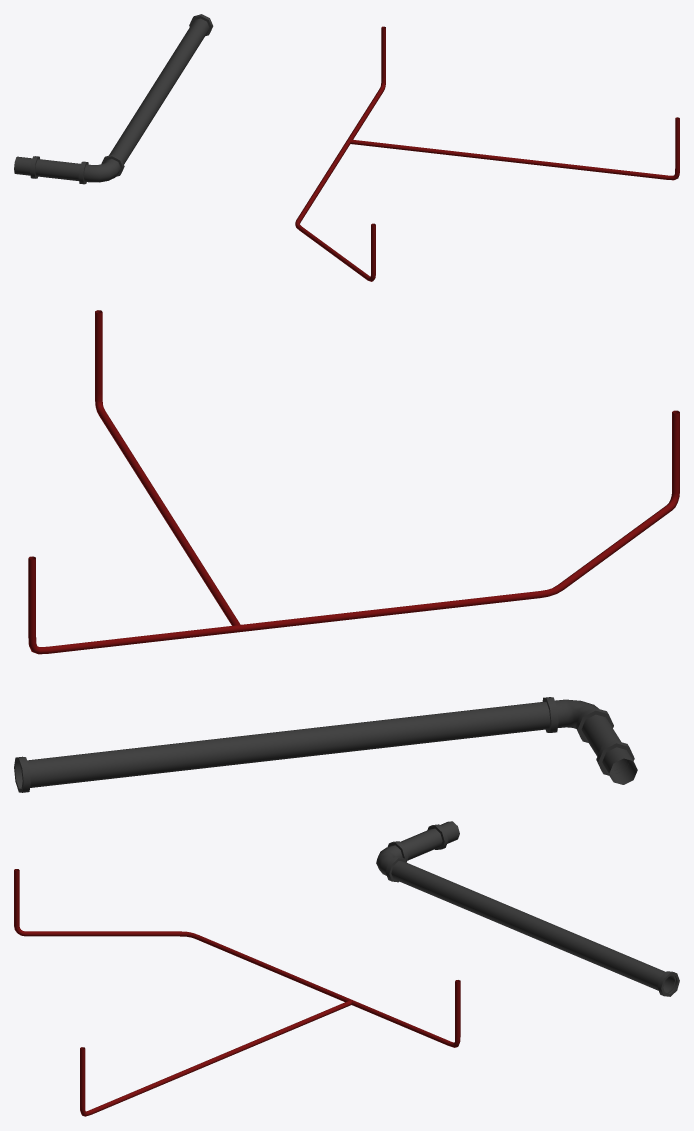
File: SM_H_Building_Tide_WardenBoxroom_08_ATLAS.fbx
3 renders of one model, top to bottom at view 1: azimuth 30°, elevation 25°; view 2: azimuth 150°, elevation 25°; view 3: azimuth 270°, elevation 25°, orthographic. The views are drawn at different scales.
Parts seen in each view (by area): view 1: SM_H_Building_Tide_WardenBoxroom_08_ATLAS; view 2: SM_H_Building_Tide_WardenBoxroom_08_ATLAS; view 3: SM_H_Building_Tide_WardenBoxroom_08_ATLAS.
Part boxes in pixels (x1,y1,x2,y2): SM_H_Building_Tide_WardenBoxroom_08_ATLAS: [14, 14, 679, 281]; SM_H_Building_Tide_WardenBoxroom_08_ATLAS: [14, 310, 679, 792]; SM_H_Building_Tide_WardenBoxroom_08_ATLAS: [14, 821, 679, 1116].
Bounding box in the file's own units: 853 × 874 × 102.
